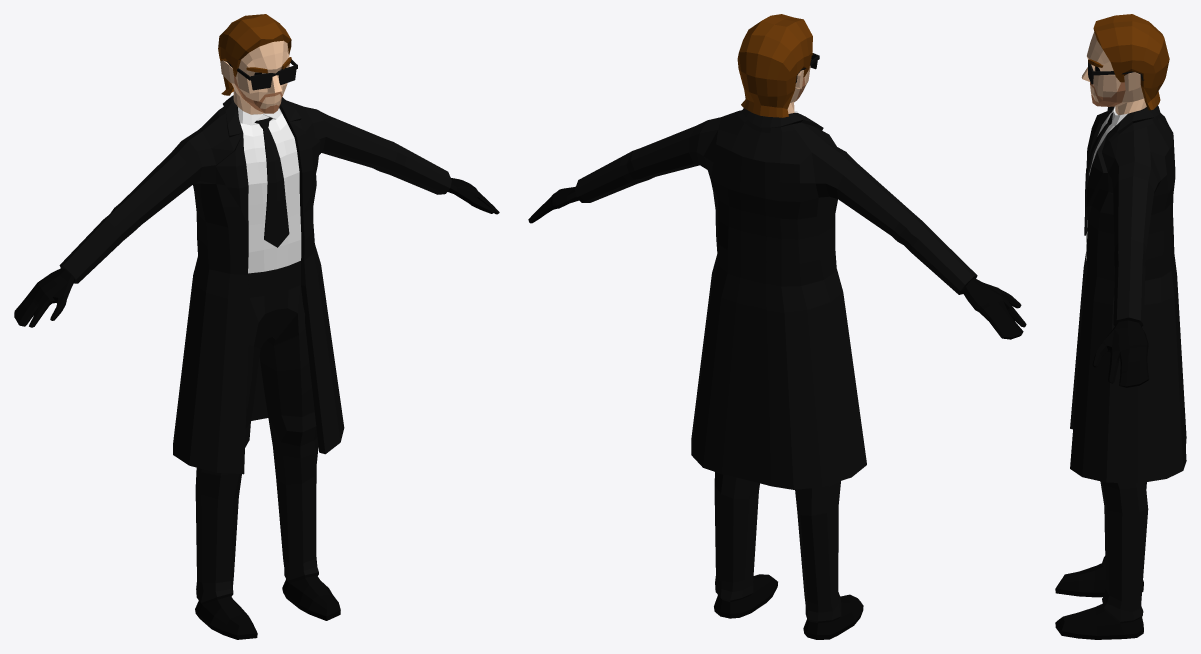
Rendered from leptitvalou.fbx.
The picture shows the model from 3 angles, left to right: view 1: azimuth 30°, elevation 25°; view 2: azimuth 150°, elevation 25°; view 3: azimuth 270°, elevation 25°; orthographic projection. The views are drawn at different scales.
Parts seen in each view (by area): view 1: chr_vlad_body, chr_vlad_glasses; view 2: chr_vlad_body; view 3: chr_vlad_body, chr_vlad_glasses.
Boxes of the visible parts, bbox=[...] form: chr_vlad_body: bbox=[14, 14, 499, 639]; chr_vlad_glasses: bbox=[225, 59, 297, 90]; chr_vlad_body: bbox=[528, 14, 1026, 639]; chr_vlad_body: bbox=[1055, 14, 1186, 639]; chr_vlad_glasses: bbox=[1088, 60, 1143, 84].
Size of the model in its own units: 148 by 174 by 34.94.
